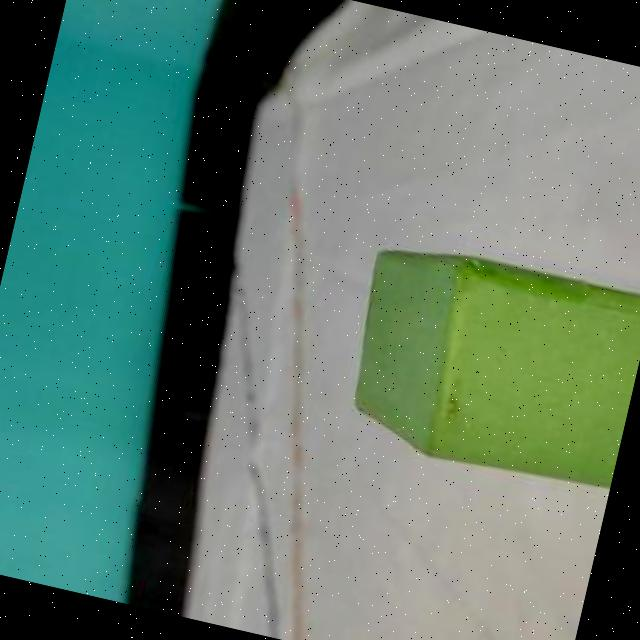greenbox: (326, 229, 640, 498)
